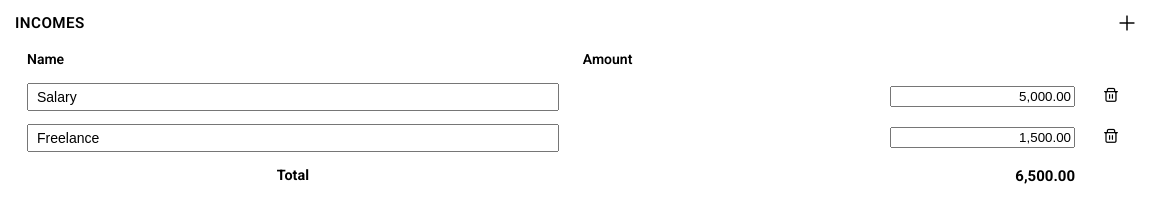
Test: BudgetIncomeList › delete income › excludes deleted incomes from the total amount
The width and height of the screenshot is (1151, 201).
Click the 2nd button: [1111, 96] box [1104, 88, 1118, 104]
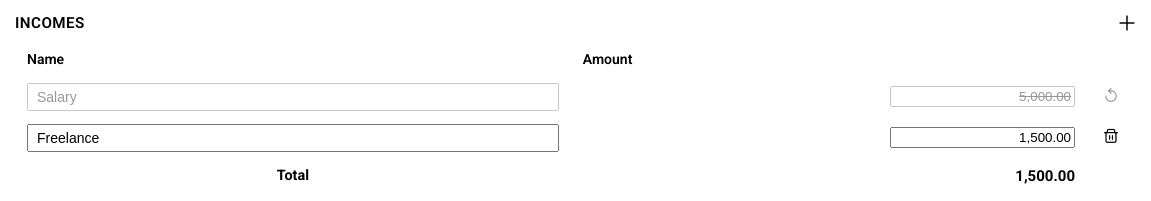
expect the row with test id "income-total-row" shows "1,500.00": met, box [1015, 166, 1075, 184]
